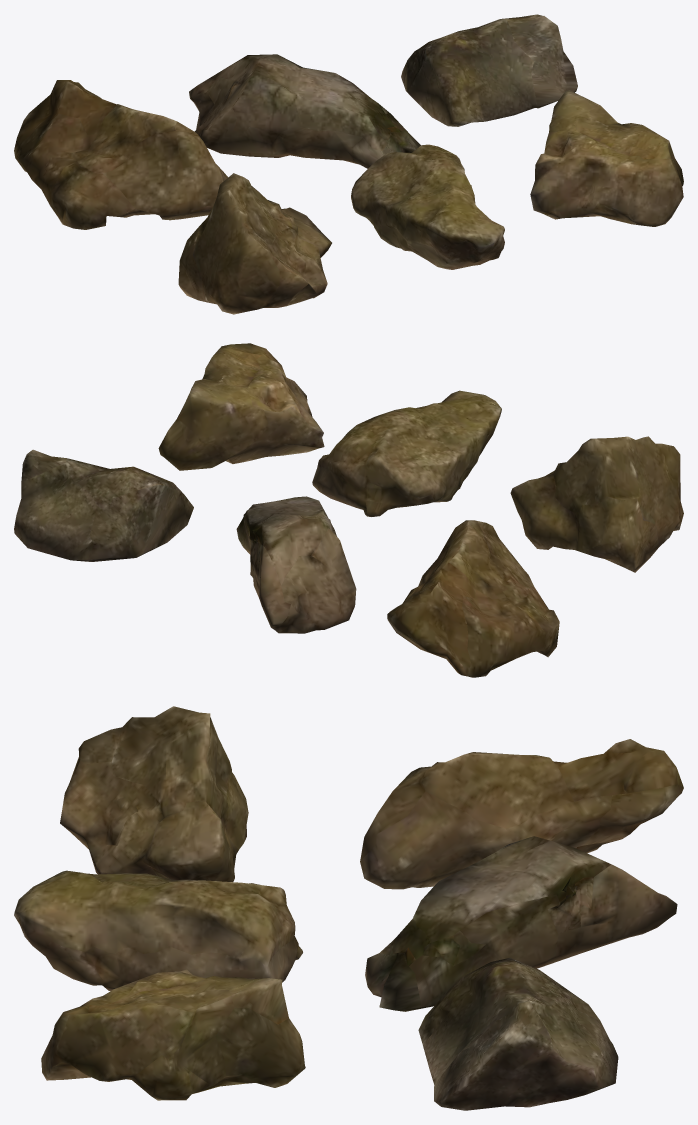
File: rock_moss_set_01.glb
3 renders of one model, top to bottom at view 1: azimuth 30°, elevation 25°; view 2: azimuth 150°, elevation 25°; view 3: azimuth 270°, elevation 25°, orthographic. The views are drawn at different scales.
Visible parts, largest first — view 1: rock_moss_set_01_rock01, rock_moss_set_01_rock02, rock_moss_set_01_rock06, rock_moss_set_01_rock04, rock_moss_set_01_rock03, rock_moss_set_01_rock05; view 2: rock_moss_set_01_rock04, rock_moss_set_01_rock01, rock_moss_set_01_rock05, rock_moss_set_01_rock03, rock_moss_set_01_rock06, rock_moss_set_01_rock02; view 3: rock_moss_set_01_rock01, rock_moss_set_01_rock02, rock_moss_set_01_rock05, rock_moss_set_01_rock06, rock_moss_set_01_rock04, rock_moss_set_01_rock03.
Part boxes in pixels (left/top/right/bottom): rock_moss_set_01_rock01: left=14, top=80, right=227, bottom=229; rock_moss_set_01_rock02: left=189, top=54, right=420, bottom=168; rock_moss_set_01_rock06: left=530, top=90, right=683, bottom=226; rock_moss_set_01_rock04: left=178, top=173, right=331, bottom=314; rock_moss_set_01_rock03: left=401, top=14, right=577, bottom=126; rock_moss_set_01_rock05: left=351, top=144, right=504, bottom=269; rock_moss_set_01_rock04: left=510, top=436, right=683, bottom=572; rock_moss_set_01_rock01: left=387, top=520, right=559, bottom=677; rock_moss_set_01_rock05: left=312, top=390, right=501, bottom=516; rock_moss_set_01_rock03: left=14, top=449, right=193, bottom=561; rock_moss_set_01_rock06: left=158, top=343, right=324, bottom=470; rock_moss_set_01_rock02: left=236, top=496, right=356, bottom=633; rock_moss_set_01_rock01: left=360, top=739, right=683, bottom=889; rock_moss_set_01_rock02: left=365, top=836, right=677, bottom=1011; rock_moss_set_01_rock05: left=14, top=870, right=302, bottom=990; rock_moss_set_01_rock06: left=41, top=969, right=305, bottom=1100; rock_moss_set_01_rock04: left=60, top=706, right=248, bottom=881; rock_moss_set_01_rock03: left=418, top=958, right=618, bottom=1110.
Bounding box in the file's own units: 8 × 1.76 × 6.94.
1 material, 1 textured.
